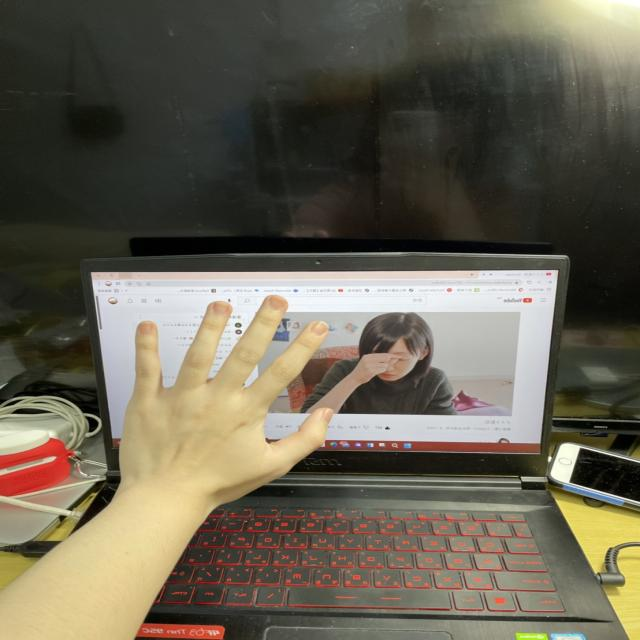no_glove: (93, 279, 347, 517)
